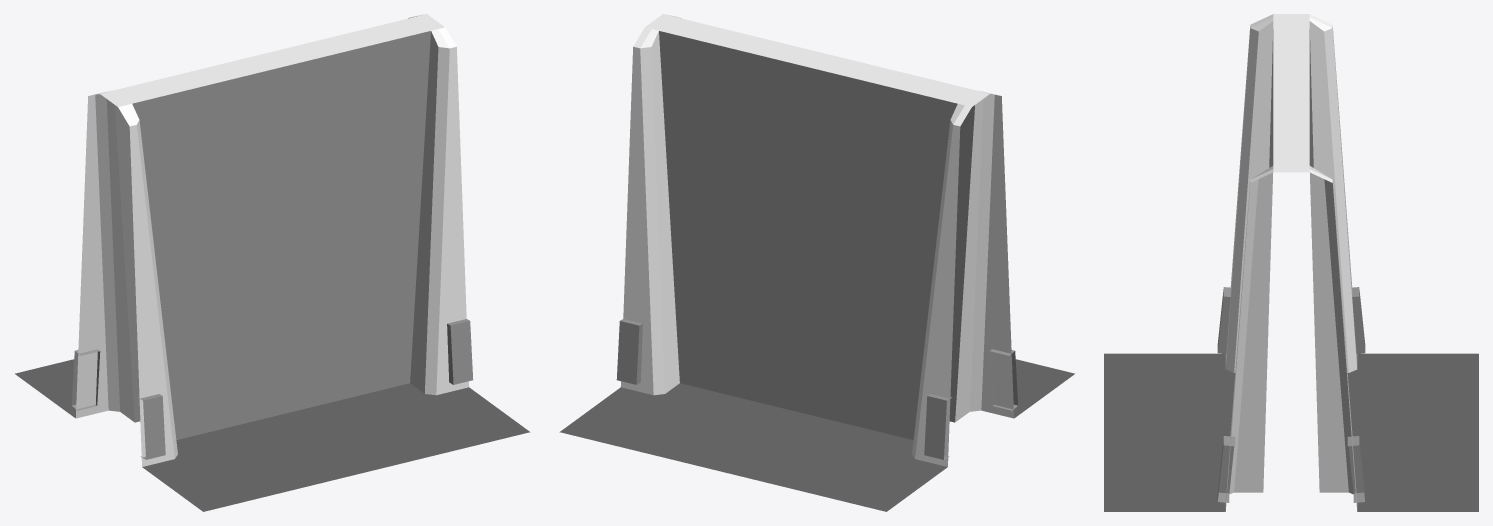
The model's file is I_Wall_Straight_3.fbx.
3 views of the same model, side by side, from view 1: azimuth 30°, elevation 25°; view 2: azimuth 150°, elevation 25°; view 3: azimuth 270°, elevation 25° (orthographic).
Parts seen in each view (by area): view 1: I_Wall_Straight_3; view 2: I_Wall_Straight_3; view 3: I_Wall_Straight_3.
Part boxes in pixels (box(x1,y1,x2,y2)): I_Wall_Straight_3: box(15, 14, 530, 511); I_Wall_Straight_3: box(559, 14, 1074, 511); I_Wall_Straight_3: box(1104, 14, 1478, 511).
Bounding box in the file's own units: 200 × 200 × 200.
